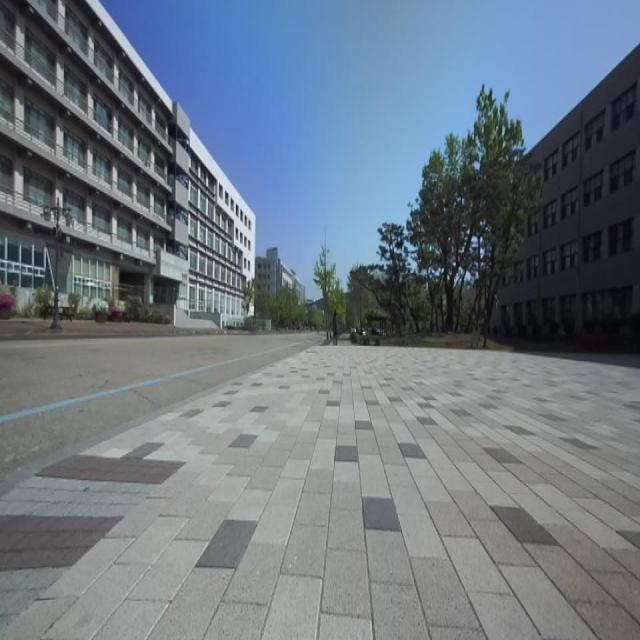sidewalk: (0, 334, 640, 639)
